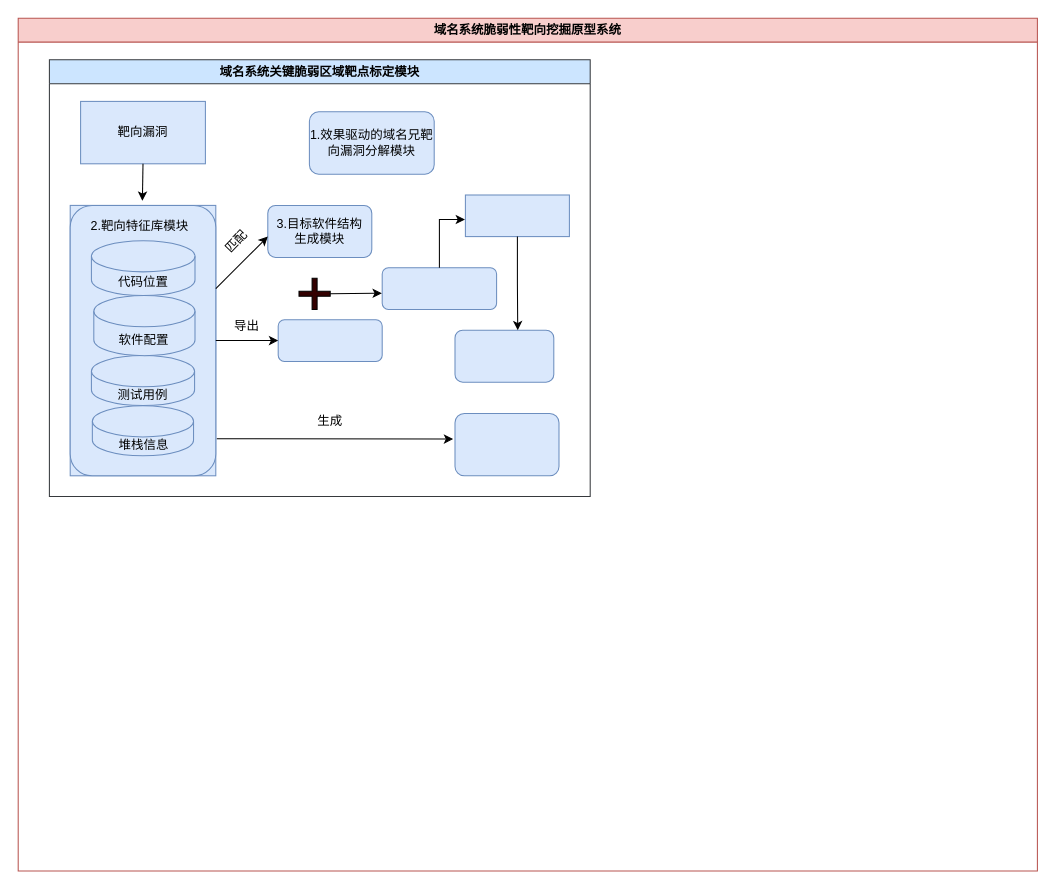
This 1056x889 diagram has some shape labels left out. The centre of each missing label's shape, as x and y in pixels:
"4.靶向脆弱性 筛选模块" goes at (329,340).
"5.靶向生成模块" goes at (439,288).
"6.靶点标定模块" goes at (504,355).
"7.目标效果语义 靶向生成模块" goes at (506,444).
"靶点位置" goes at (516,215).
